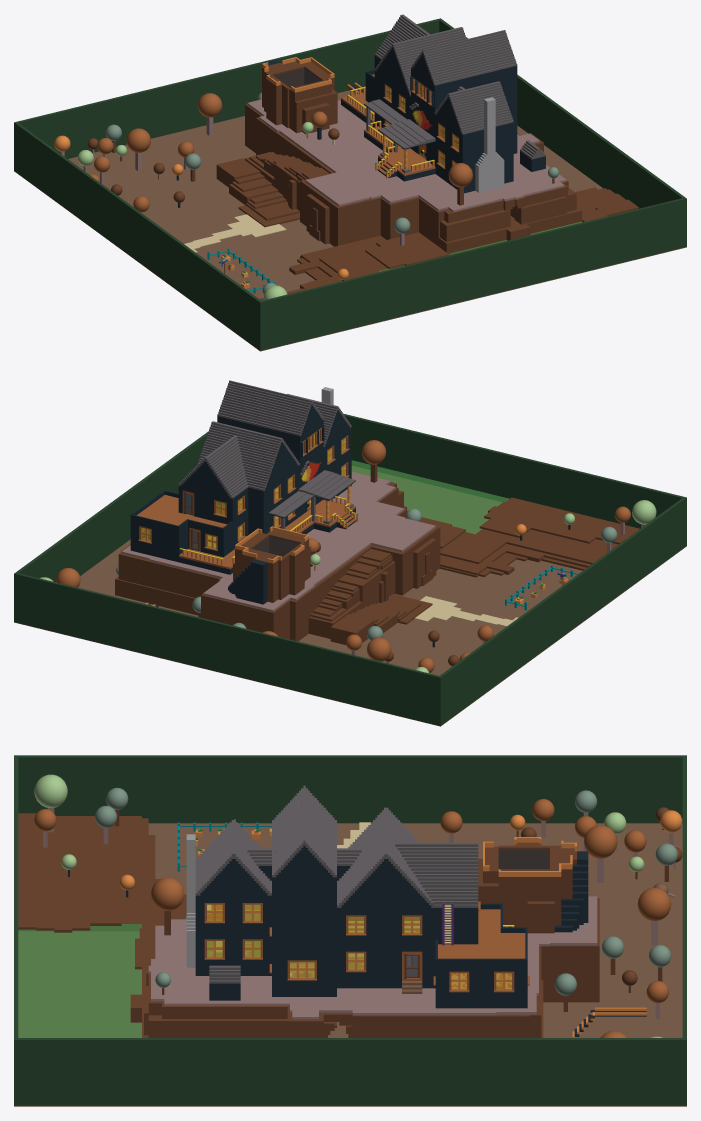
The model's file is world.glb.
The picture shows the model from 3 angles, top to bottom: view 1: azimuth 30°, elevation 25°; view 2: azimuth 150°, elevation 25°; view 3: azimuth 270°, elevation 25°; orthographic projection. The views are drawn at different scales.
Parts seen in each view (by area): view 1: merged_c39_70_45_1, merged_c105_64_40_1, merged_c124_92_70_1, merged_c149_121_119_1, merged_c99_95_98_1, merged_c27_42_53_1, merged_c160_95_53_1, merged_c218_133_65_1, merged_c163_162_165_1, merged_c215_197_154_1, merged_c120_144_130_1, merged_c161_196_140_1 (+1 smaller); view 2: merged_c39_70_45_1, merged_c105_64_40_1, merged_c124_92_70_1, merged_c27_42_53_1, merged_c99_95_98_1, merged_c149_121_119_1, merged_c160_95_53_1, merged_c75_151_75_0.7, merged_c218_133_65_1, merged_c215_197_154_1, merged_c161_196_140_1, merged_c120_144_130_1 (+2 smaller); view 3: merged_c39_70_45_1, merged_c105_64_40_1, merged_c124_92_70_1, merged_c27_42_53_1, merged_c99_95_98_1, merged_c75_151_75_0.7, merged_c149_121_119_1, merged_c160_95_53_1, merged_c218_133_65_1, merged_c120_144_130_1, merged_c245_205_48_0.7, merged_c161_196_140_1 (+3 smaller).
Part boxes in pixels (x1,y1,x2,y2): merged_c39_70_45_1: (14, 18, 686, 350); merged_c105_64_40_1: (87, 61, 638, 300); merged_c124_92_70_1: (14, 86, 686, 351); merged_c149_121_119_1: (60, 99, 566, 245); merged_c99_95_98_1: (222, 14, 545, 259); merged_c27_42_53_1: (176, 47, 545, 280); merged_c160_95_53_1: (89, 74, 472, 273); merged_c218_133_65_1: (54, 57, 458, 288); merged_c163_162_165_1: (475, 97, 504, 192); merged_c215_197_154_1: (184, 139, 334, 261); merged_c120_144_130_1: (105, 92, 558, 294); merged_c161_196_140_1: (77, 122, 313, 299); merged_c39_70_45_1: (14, 413, 686, 725); merged_c105_64_40_1: (115, 464, 639, 666); merged_c124_92_70_1: (14, 466, 686, 726); merged_c27_42_53_1: (130, 404, 570, 647); merged_c99_95_98_1: (178, 380, 563, 572); merged_c149_121_119_1: (121, 471, 645, 663); merged_c160_95_53_1: (56, 427, 630, 673); merged_c75_151_75_0.7: (351, 460, 509, 534); merged_c218_133_65_1: (141, 434, 568, 606); merged_c215_197_154_1: (314, 552, 563, 626); merged_c161_196_140_1: (40, 500, 656, 673); merged_c120_144_130_1: (116, 508, 628, 640); merged_c39_70_45_1: (14, 755, 686, 1105); merged_c105_64_40_1: (18, 807, 682, 1037); merged_c124_92_70_1: (14, 823, 686, 1106); merged_c27_42_53_1: (68, 828, 663, 1036); merged_c99_95_98_1: (195, 785, 478, 983); merged_c75_151_75_0.7: (18, 924, 141, 1037); merged_c149_121_119_1: (43, 808, 675, 1019); merged_c160_95_53_1: (34, 799, 671, 1037); merged_c218_133_65_1: (119, 810, 682, 1037); merged_c120_144_130_1: (94, 787, 677, 995); merged_c245_205_48_0.7: (207, 904, 511, 989); merged_c161_196_140_1: (34, 774, 662, 1037).
Bounding box in the file's own units: 300 × 106 × 300.
